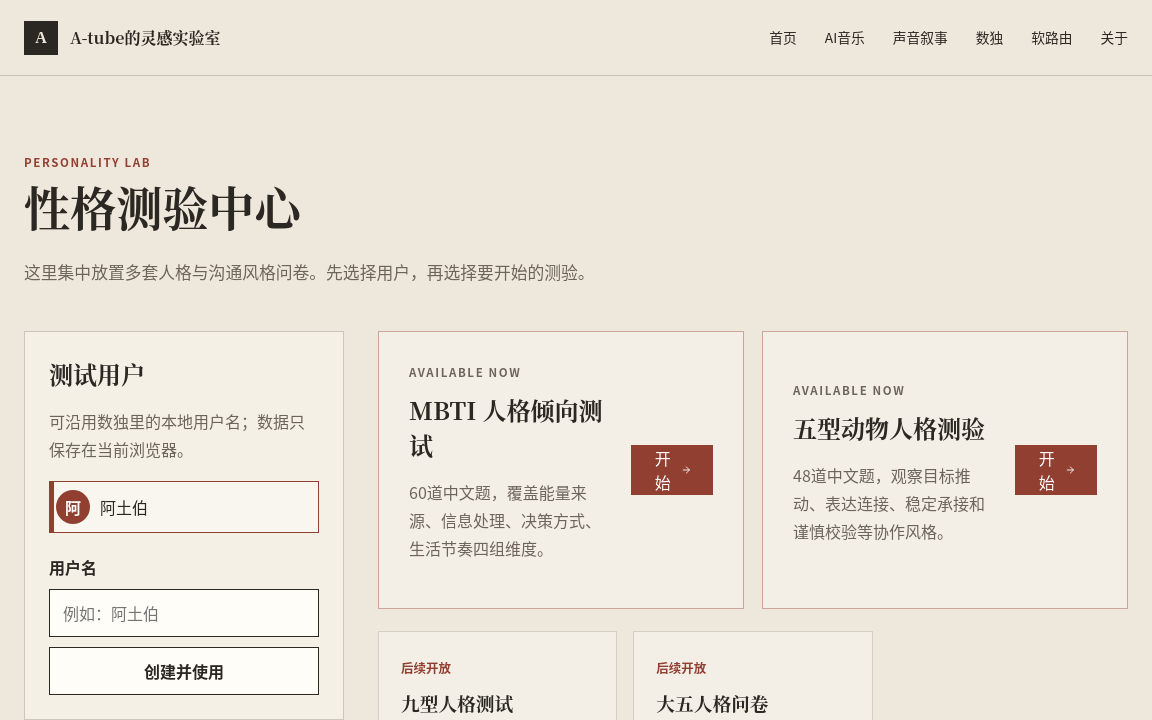
Test case: 性格测试页面 › 可选择数独用户名并进入MBTI 人格倾向测试
Expected: the heading "性格测验中心" is shown, top-left (24, 173), bottom-right (300, 239)
Click the button "阿 阿土伯". click: coordinates (73, 507)
box: top-left (49, 481), bottom-right (319, 533)
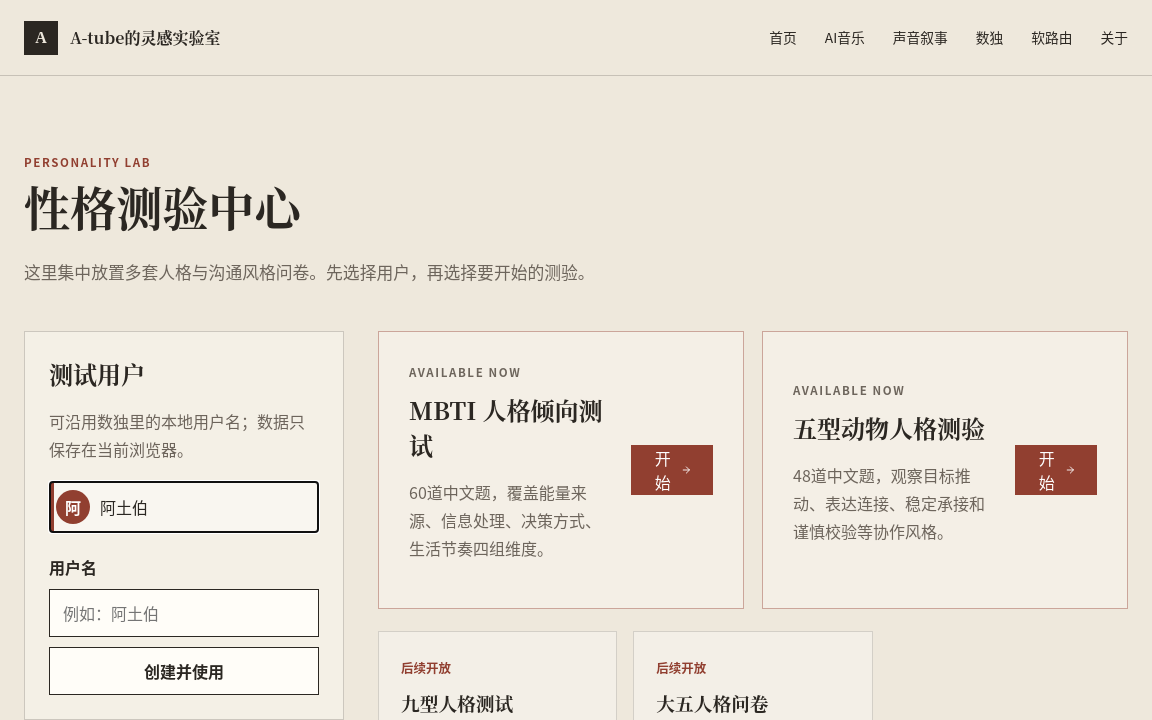
Expected: the element "MBTI 人格倾向测试" is shown, top-left (378, 331), bottom-right (744, 609)
Click the button "开始" next to "60道中文题，覆盖能量来源、信息处理、决策方式、生活节奏四组维度。". click: coordinates (672, 470)
box: top-left (631, 445), bottom-right (713, 495)
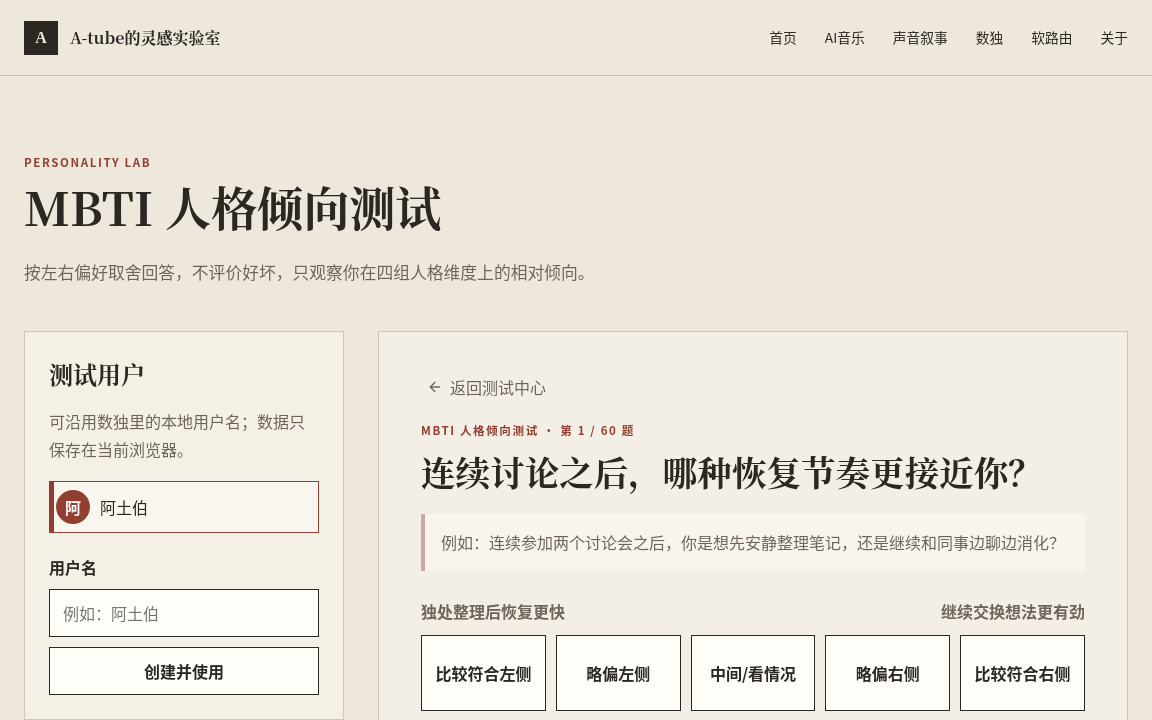
Expected: the heading "MBTI 人格倾向测试" is shown, top-left (24, 173), bottom-right (441, 239)
Expected: the text "MBTI 人格倾向测试 · 第 1 / 60 题" is shown, top-left (421, 422), bottom-right (635, 438)
Expected: the text "按左右偏好取舍回答，不评价好坏，只观察你在四组人格维度上的相对倾向。" is shown, top-left (24, 260), bottom-right (595, 284)
